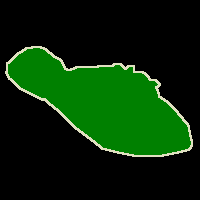shoe: (6, 46, 192, 156)
